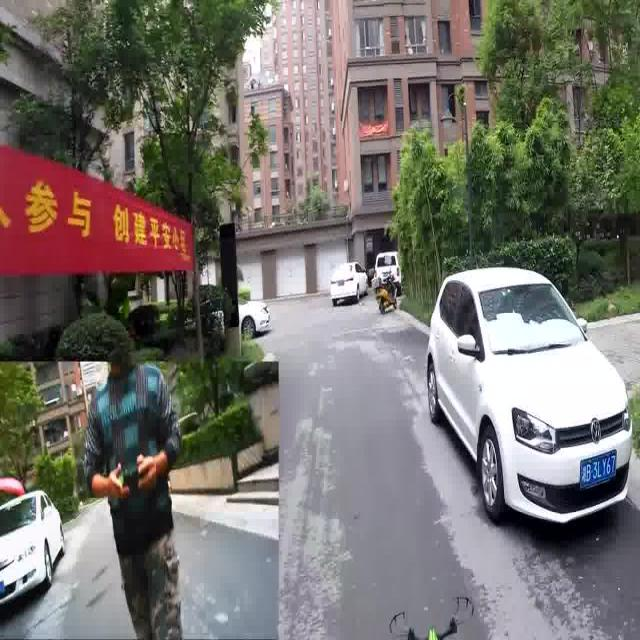drones: (384, 585, 480, 640)
